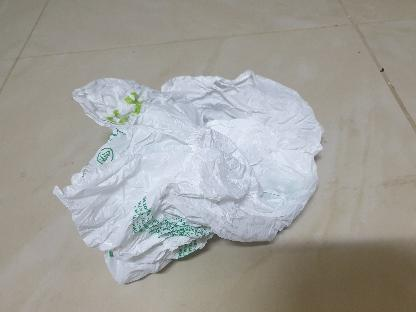Plastic Bag: (53, 72, 323, 284)
